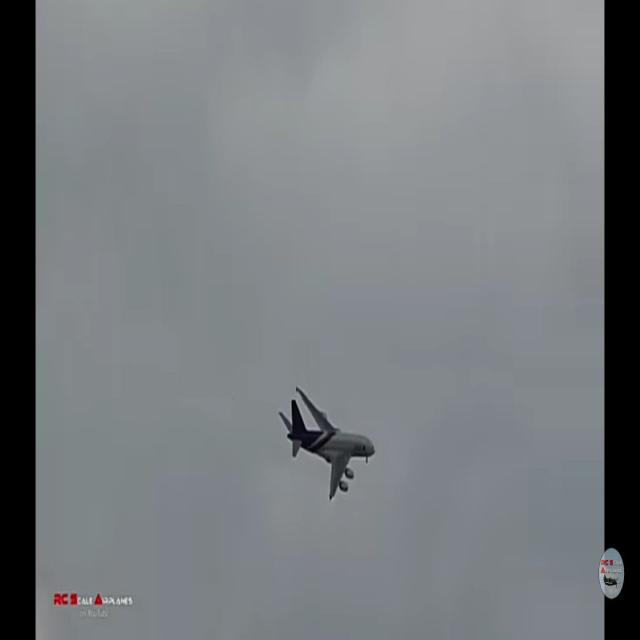iha: (303, 415, 338, 469)
